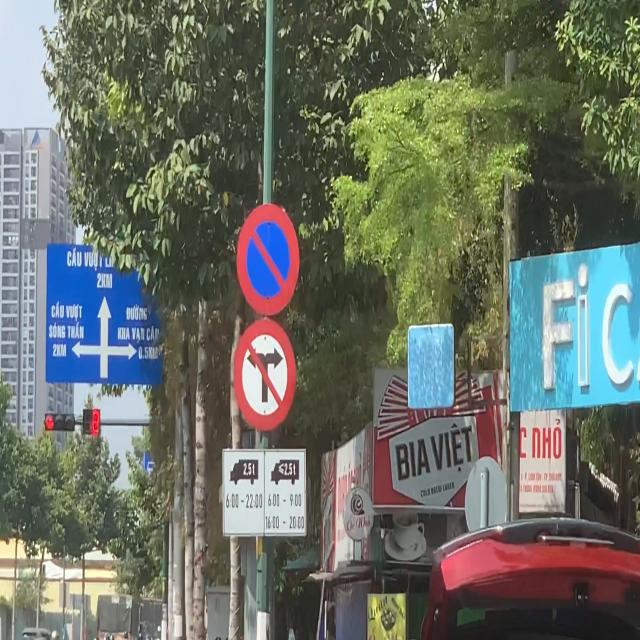Cam con lai: (233, 318, 297, 433)
Cam do: (236, 202, 300, 317)
